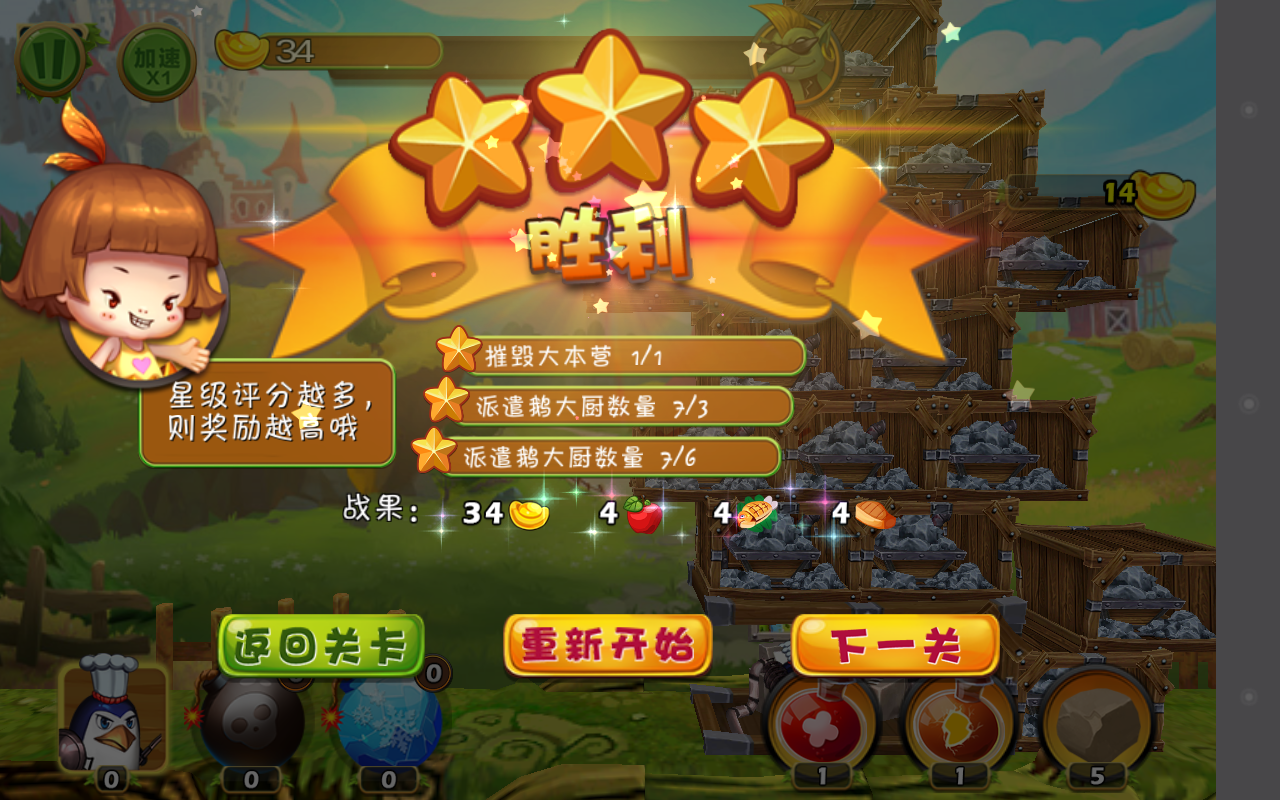button: (496, 602, 718, 682), (213, 610, 431, 682)
